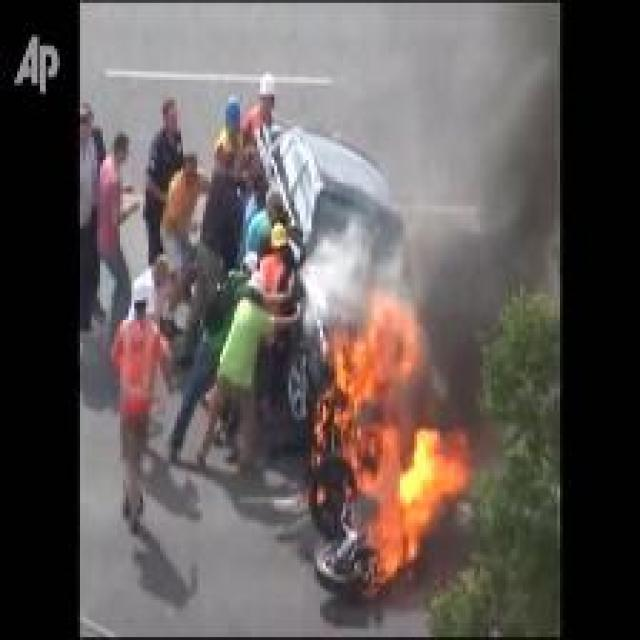Fire: (314, 297, 472, 583)
